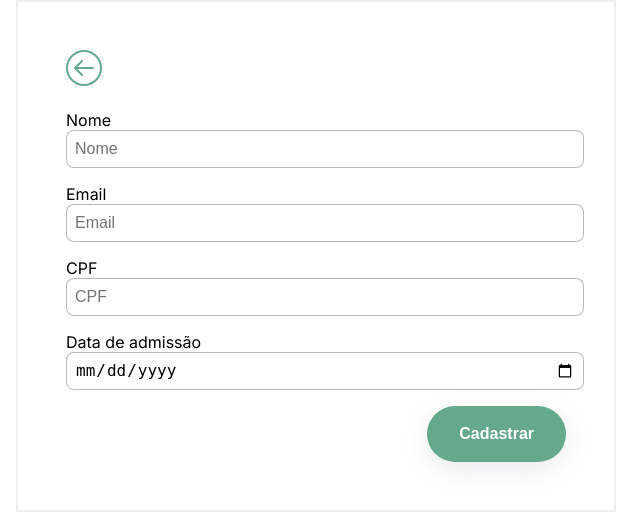
NewUserPage › should format CPF input correctly
The image size is (633, 529).
Type "12345678901" into the field with placeholder "CPF". click: (325, 297)
box: x1=66 y1=278 x2=584 y2=316
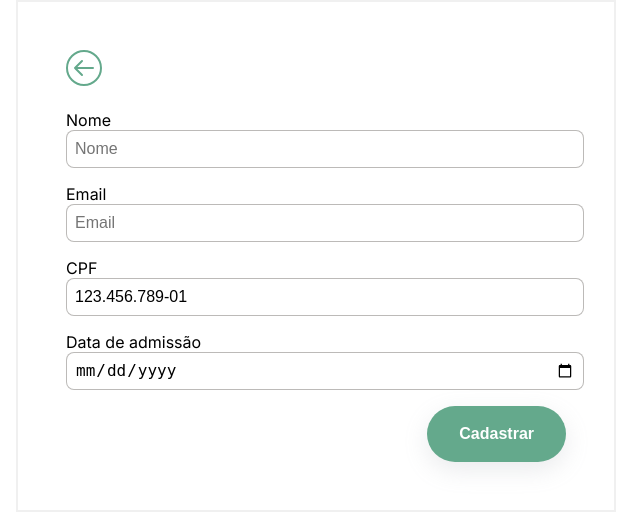
Check: the field with placeholder "CPF" holds "123.456.789-01", box x1=66 y1=278 x2=584 y2=316
